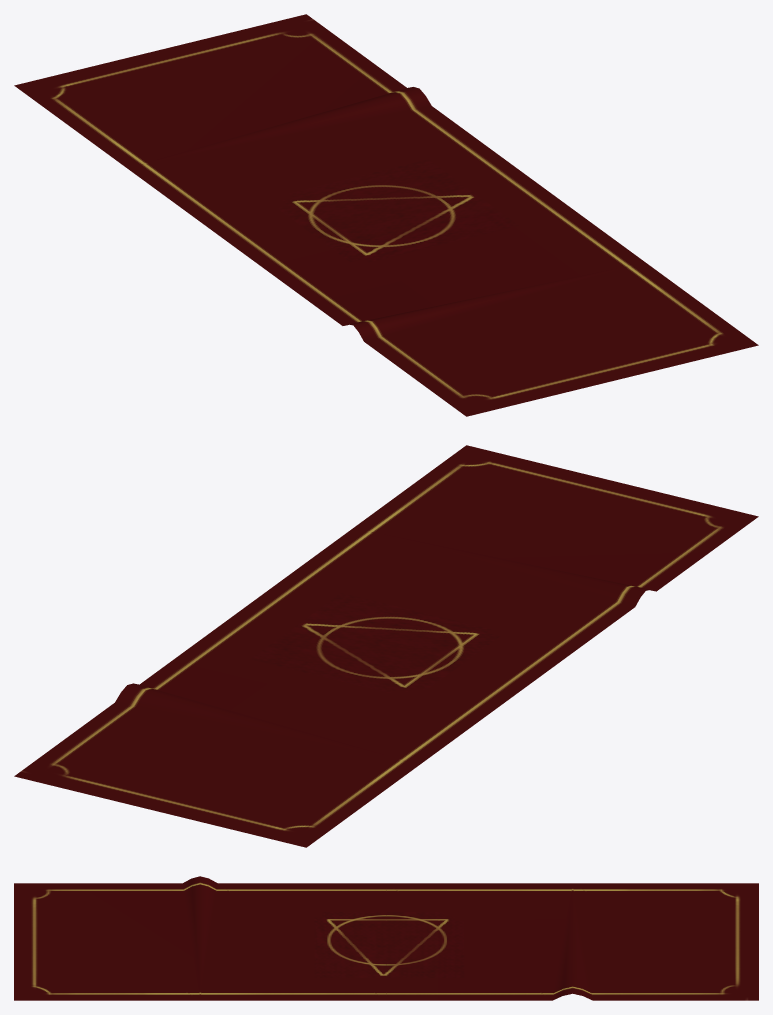
The model's file is SM_carpet01.fbx.
The picture shows the model from 3 angles, top to bottom: view 1: azimuth 30°, elevation 25°; view 2: azimuth 150°, elevation 25°; view 3: azimuth 270°, elevation 25°; orthographic projection. The views are drawn at different scales.
Parts seen in each view (by area): view 1: SM_carpet01; view 2: SM_carpet01; view 3: SM_carpet01.
Part boxes in pixels (bbox=[...]): SM_carpet01: bbox=[14, 14, 758, 416]; SM_carpet01: bbox=[14, 445, 758, 847]; SM_carpet01: bbox=[14, 876, 758, 1000].
Size of the model in its own units: 3.56 by 0.0984 by 9.54.
